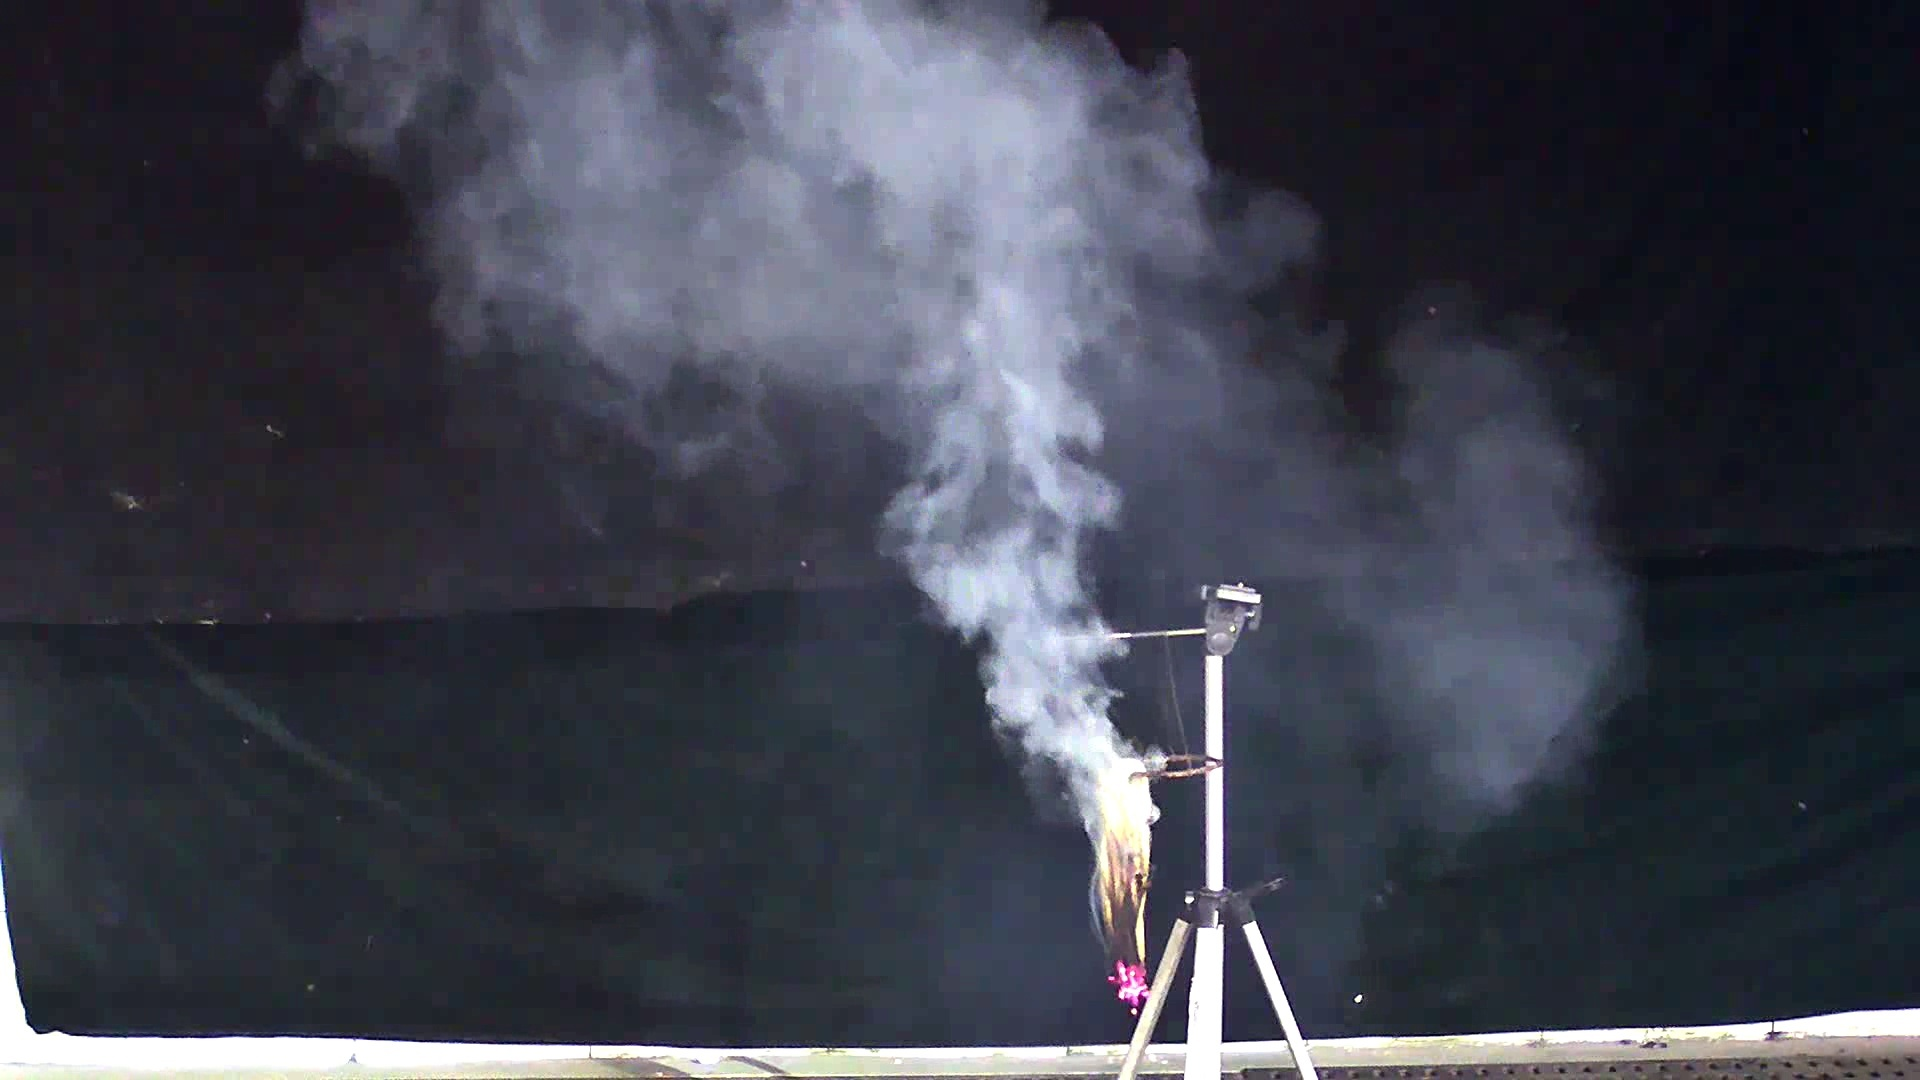smoke: (456, 44, 1636, 926)
